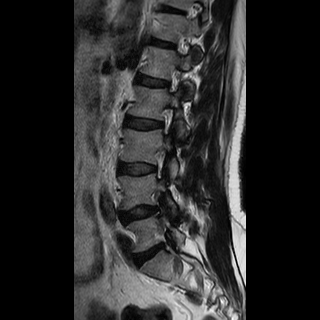LFS0: (147, 144, 170, 182), (162, 64, 186, 100), (155, 103, 177, 141)
